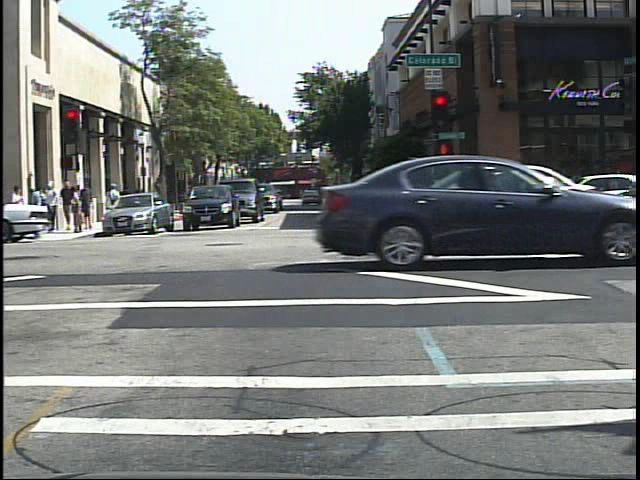person: (104, 179, 122, 225)
